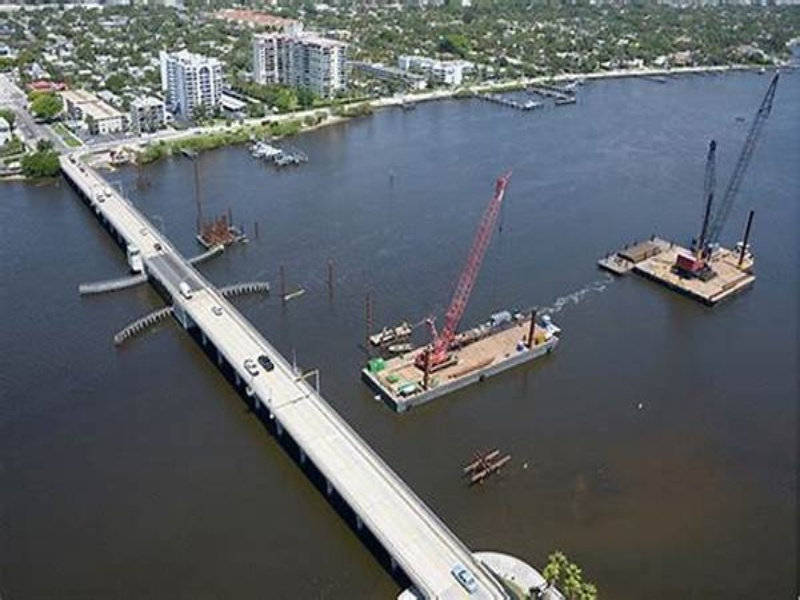crane: (670, 70, 784, 285), (412, 171, 514, 378)
